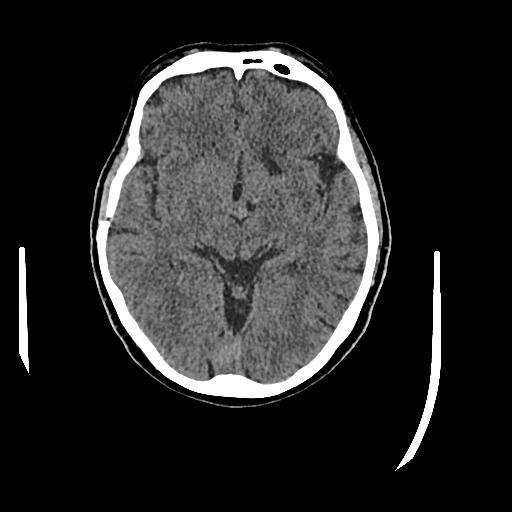Normal_Brain: (83, 39, 408, 411)
